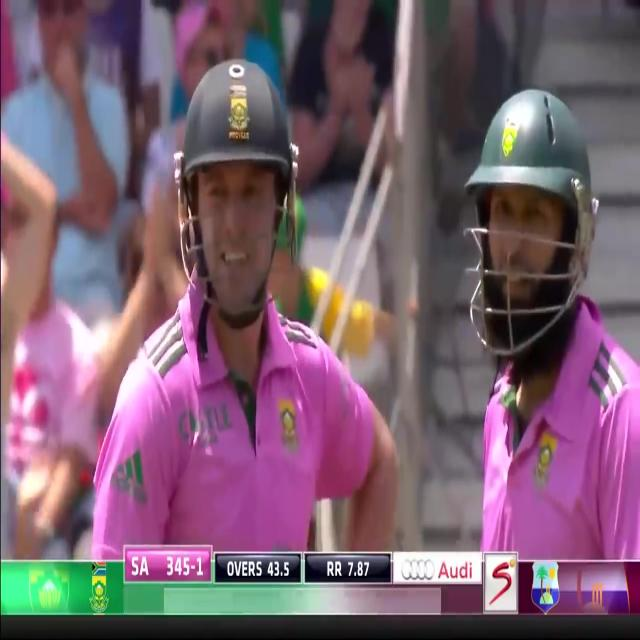Ball: (95, 59, 396, 553), (473, 77, 640, 559)
